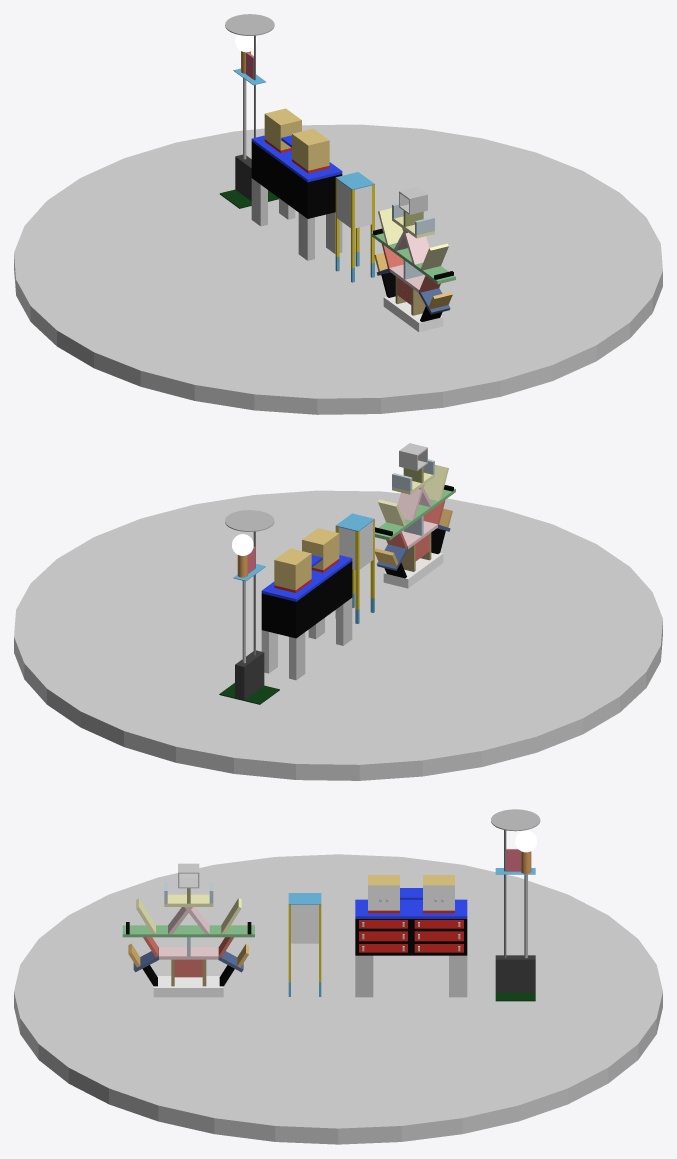
The model's file is memphis.gltf.
The picture shows the model from 3 angles, top to bottom: view 1: azimuth 30°, elevation 25°; view 2: azimuth 150°, elevation 25°; view 3: azimuth 270°, elevation 25°; orthographic projection.
Visible parts, largest first — view 1: Cylinder.008, Cube.046, Cube.047, Cube.048, Cube.050, Cylinder.007, object_4.003, object_25.002, Cube.053, Cube.054, Cube.043, Cube.068 (+1 smaller); view 2: Cylinder.008, Cube.046, Cube.048, Cube.068, Cube.047, Cube.050, Cylinder.007, object_4.003, Cube.054, object_25.002, Cube.053, object_5.001 (+6 smaller); view 3: Cylinder.008, Cube.046, Cube.068, object_25.002, object_4.003, Cube.050, Cube.048, Cube.047, Cube.036, Cylinder.007, Cube.044, Cube.045 (+3 smaller).
Part boxes in pixels (left/top/right/bottom): Cylinder.008: left=14, top=124, right=662, bottom=414; Cube.046: left=251, top=142, right=342, bottom=218; Cube.047: left=292, top=128, right=329, bottom=170; Cube.048: left=264, top=108, right=301, bottom=150; Cube.050: left=251, top=135, right=342, bottom=182; Cylinder.007: left=225, top=14, right=274, bottom=35; object_4.003: left=383, top=296, right=443, bottom=332; object_25.002: left=371, top=232, right=455, bottom=284; Cube.053: left=298, top=213, right=314, bottom=260; Cube.054: left=251, top=178, right=267, bottom=226; Cube.043: left=355, top=185, right=371, bottom=228; Cube.068: left=235, top=154, right=251, bottom=201; Cylinder.008: left=14, top=490, right=662, bottom=780; Cube.046: left=261, top=561, right=352, bottom=638; Cube.048: left=274, top=548, right=311, bottom=590; Cube.068: left=235, top=650, right=264, bottom=699; Cube.047: left=302, top=528, right=339, bottom=570; Cube.050: left=261, top=555, right=352, bottom=601; Cylinder.007: left=225, top=510, right=274, bottom=531; object_4.003: left=383, top=552, right=443, bottom=588; Cube.054: left=289, top=632, right=305, bottom=680; object_25.002: left=375, top=488, right=455, bottom=540; Cube.053: left=336, top=598, right=352, bottom=645; object_5.001: left=399, top=443, right=427, bottom=470; Cylinder.008: left=14, top=854, right=662, bottom=1144; Cube.046: left=355, top=919, right=467, bottom=955; Cube.068: left=495, top=955, right=535, bottom=992; object_25.002: left=122, top=925, right=254, bottom=937; object_4.003: left=153, top=976, right=223, bottom=997; Cube.050: left=355, top=899, right=467, bottom=918; Cube.048: left=423, top=875, right=454, bottom=910; Cube.047: left=368, top=875, right=399, bottom=910; Cube.036: left=291, top=904, right=318, bottom=943; Cylinder.007: left=491, top=809, right=540, bottom=831; Cube.044: left=355, top=955, right=373, bottom=997; Cube.045: left=449, top=955, right=467, bottom=997.
Size of the model in its own units: 9.23 by 2.95 by 9.23.
